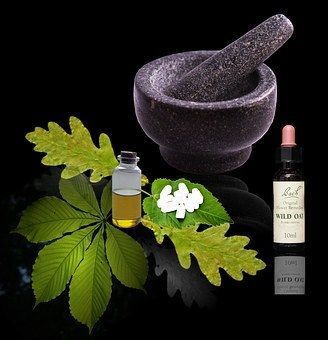bottle: (262, 118, 314, 258), (102, 144, 149, 229)
